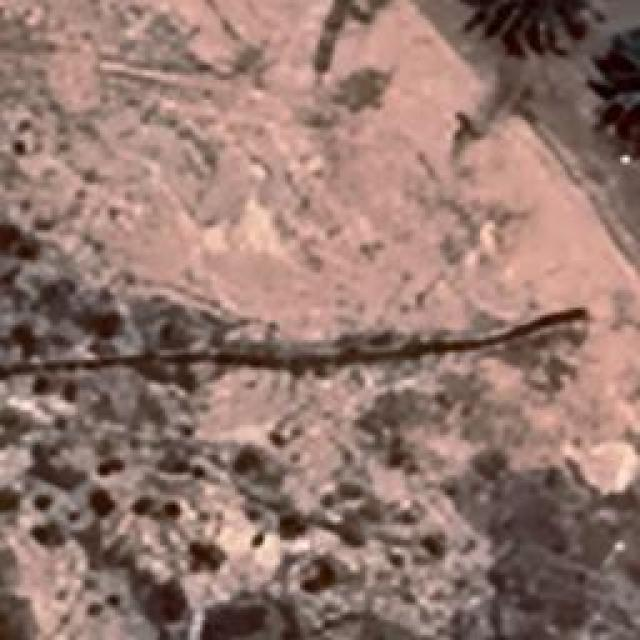PalmTree: (461, 0, 581, 55), (607, 24, 640, 144)
